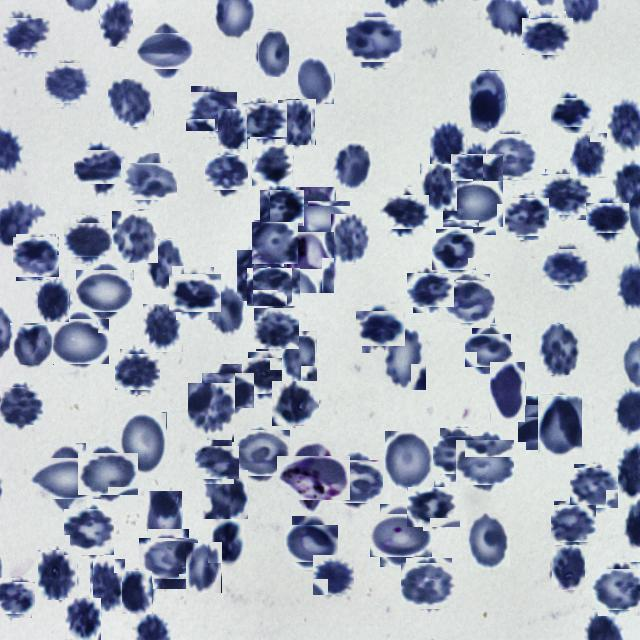red blood cell: (37, 451, 93, 506), (384, 430, 434, 491), (288, 194, 344, 248), (52, 314, 106, 368), (120, 412, 167, 474), (446, 178, 499, 232), (375, 509, 428, 562), (235, 427, 288, 480), (538, 395, 583, 457), (384, 326, 426, 391), (82, 448, 134, 500), (459, 436, 511, 488), (348, 14, 399, 66), (79, 266, 130, 316), (404, 561, 454, 612), (488, 132, 538, 182), (144, 534, 194, 584), (467, 513, 510, 570), (332, 456, 381, 506), (443, 276, 492, 326), (64, 508, 114, 556), (188, 383, 235, 434), (112, 211, 158, 263), (144, 491, 182, 551), (108, 78, 154, 127), (202, 470, 248, 519), (538, 324, 582, 375), (143, 27, 190, 74), (410, 484, 458, 530), (469, 70, 507, 128), (272, 382, 319, 428), (126, 158, 172, 205), (288, 520, 334, 566), (522, 400, 568, 446), (172, 270, 218, 316), (542, 172, 588, 218), (251, 264, 297, 310), (596, 565, 640, 613), (490, 362, 525, 422), (188, 89, 234, 134), (437, 432, 482, 478), (252, 221, 298, 266), (38, 549, 78, 600), (282, 330, 318, 386), (331, 214, 371, 264), (333, 141, 372, 192), (46, 61, 90, 106), (526, 15, 570, 60), (572, 466, 616, 511), (254, 306, 298, 351), (146, 239, 185, 289), (90, 558, 126, 612), (78, 144, 122, 188), (206, 368, 250, 412), (143, 304, 183, 352), (15, 236, 58, 280), (10, 324, 54, 366), (186, 542, 222, 593), (208, 286, 245, 335), (544, 246, 587, 288), (298, 54, 334, 104), (420, 163, 457, 211), (68, 218, 110, 260), (245, 355, 287, 397), (359, 308, 401, 350), (552, 502, 594, 544), (252, 144, 294, 186), (243, 100, 285, 142), (384, 191, 426, 233), (0, 384, 41, 427), (570, 132, 608, 178), (278, 99, 316, 145), (237, 250, 271, 301), (506, 197, 548, 238), (313, 555, 354, 596), (434, 231, 475, 272), (410, 269, 451, 310), (6, 14, 47, 55), (430, 118, 466, 164), (468, 330, 509, 370), (118, 352, 158, 392), (262, 188, 302, 228), (458, 148, 498, 188), (550, 546, 584, 592), (100, 0, 133, 47), (258, 29, 290, 77), (206, 154, 246, 192), (198, 442, 236, 482), (65, 598, 101, 640), (208, 523, 245, 563), (38, 279, 70, 322), (590, 199, 626, 237), (122, 570, 153, 614), (0, 579, 34, 616), (218, 108, 248, 149), (554, 94, 588, 130)
trophozoite: (284, 448, 343, 507), (284, 231, 335, 293)
